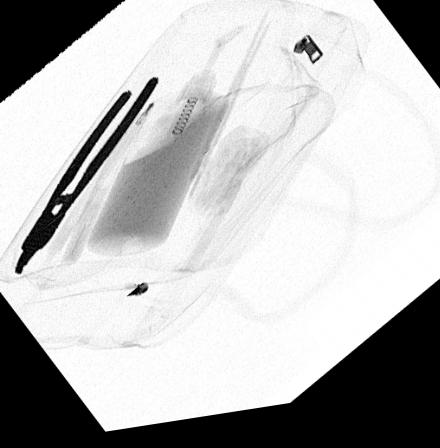Pliers: (13, 79, 160, 274)
